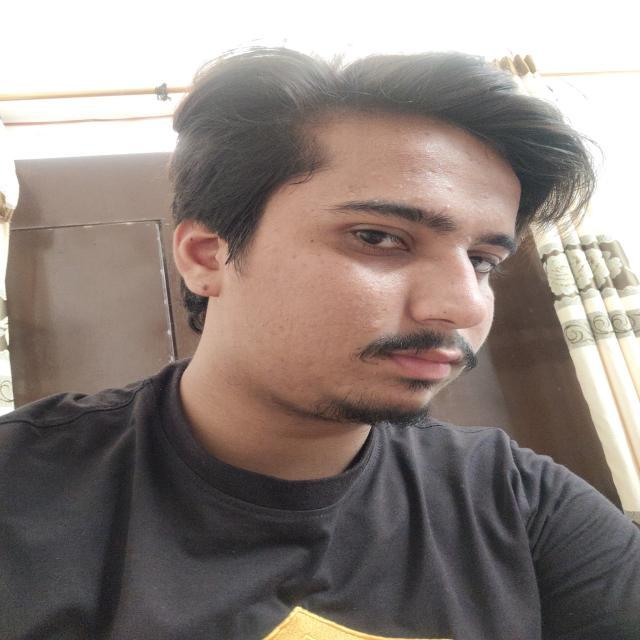Acne: (279, 237, 333, 275), (418, 162, 464, 202)
